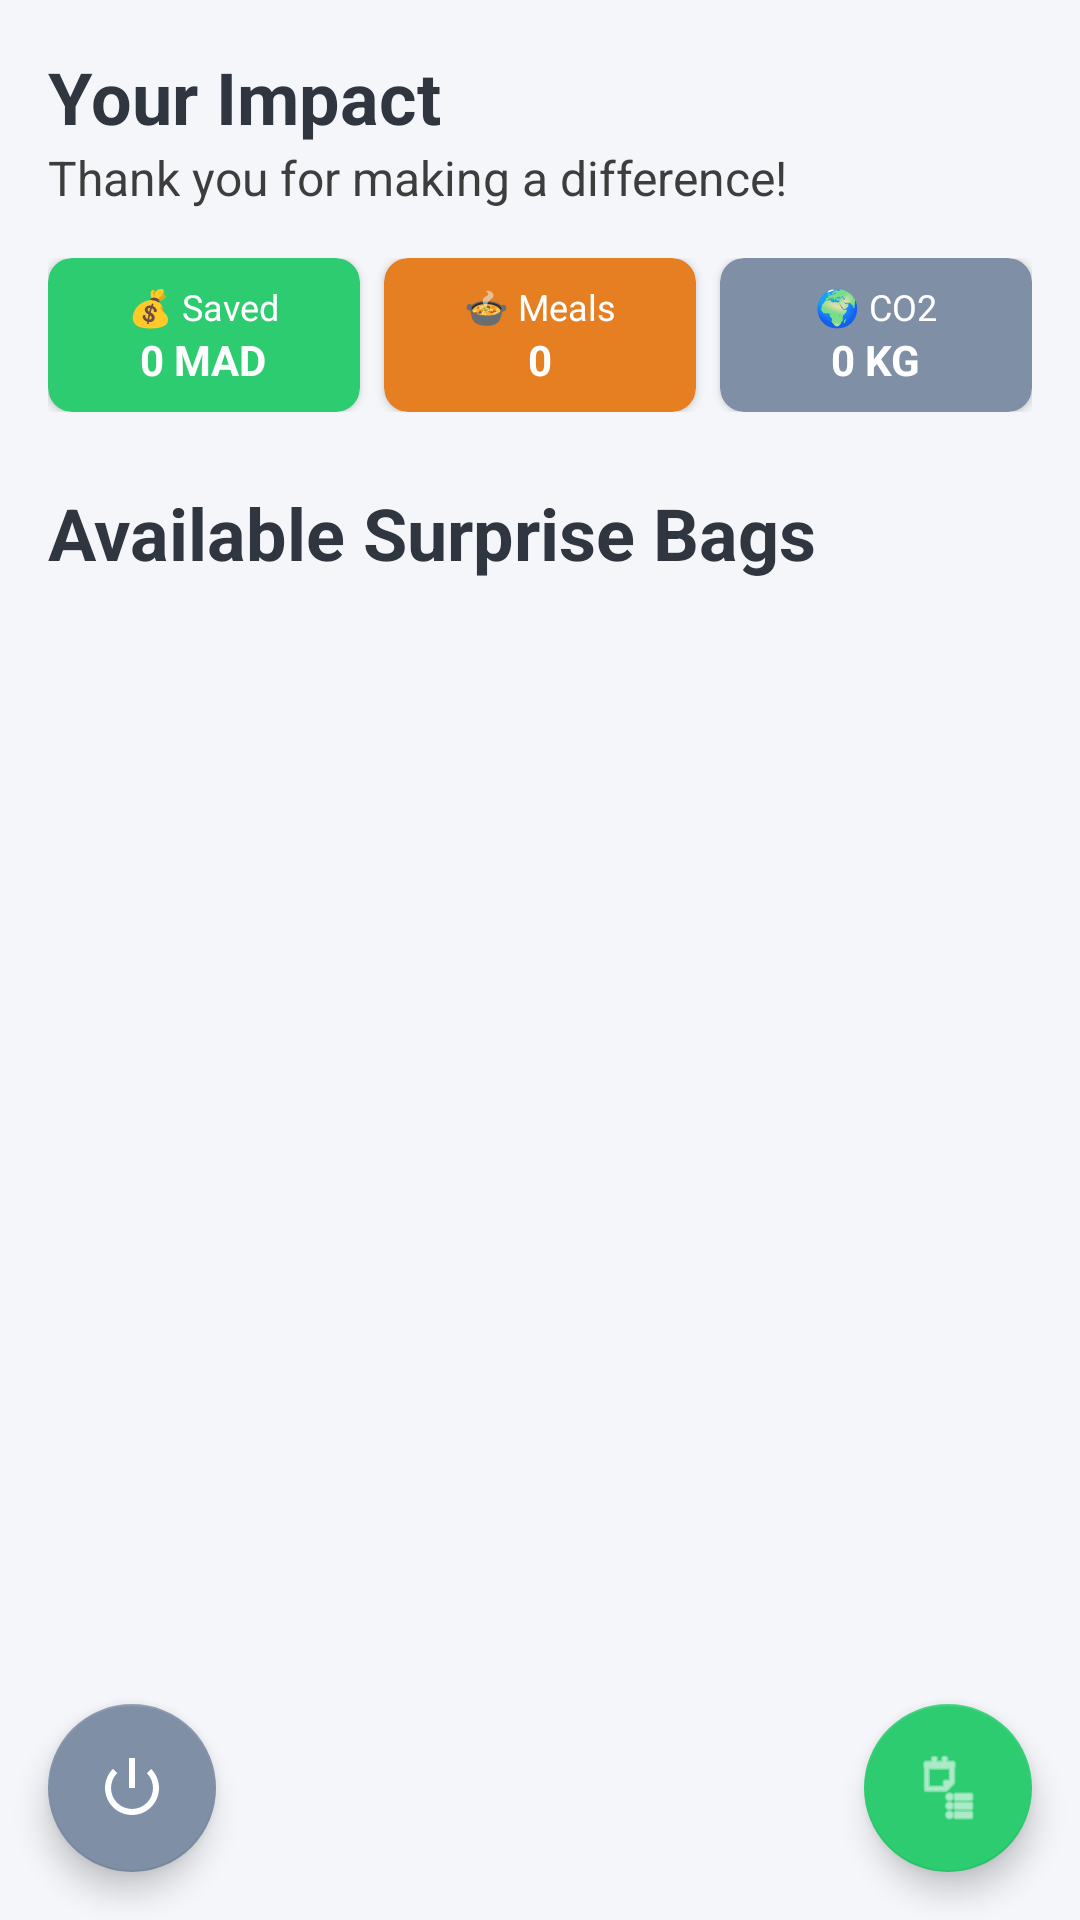

Icons on this 1080 × 1920 Android screen, each with its box as (x1=x1, y1=y1, x2=x2, y2=y2):
agenda: (x1=864, y1=1704, x2=1032, y2=1872)
lock power off: (x1=48, y1=1704, x2=216, y2=1872)
